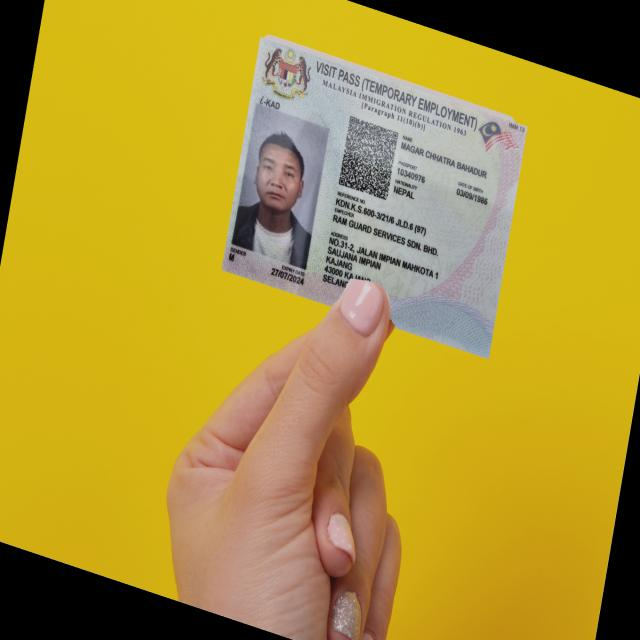ikad-temp: (220, 33, 528, 359)
